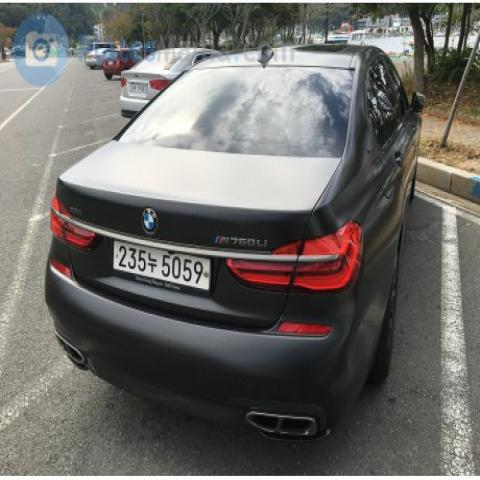LP: (94, 233, 224, 303)
